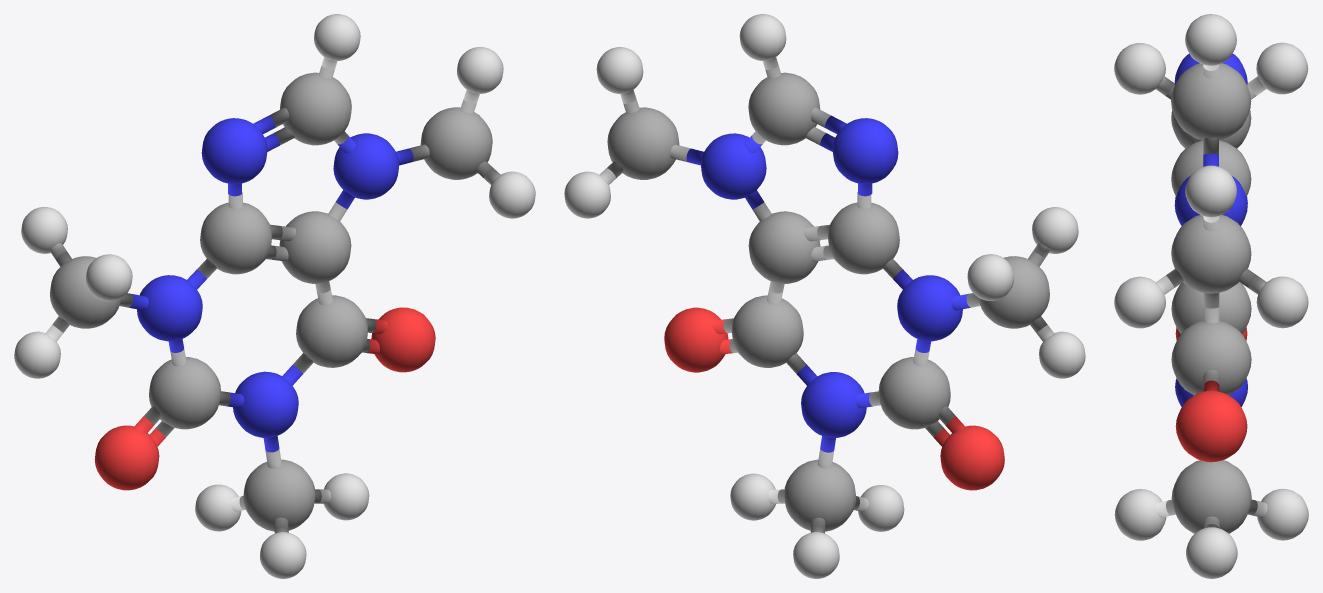
Rendered from cafeina.glb.
3 renders of one model, left to right at view 1: azimuth 30°, elevation 25°; view 2: azimuth 150°, elevation 25°; view 3: azimuth 270°, elevation 25°, orthographic. The views are drawn at different scales.
Visible parts, largest first — view 1: Shape_Sphere.004_62, Shape_Sphere.006_64, Shape_Sphere.009_67, Shape_Sphere.002_60, Shape_Sphere_58, Shape_Sphere.013_71, Shape_Sphere.005_63, Shape_Sphere.003_61, Shape_Sphere.008_66, Shape_Sphere.011_69, Shape_Sphere.001_59, Shape_Sphere.010_68 (+11 smaller); view 2: Shape_Sphere.004_62, Shape_Sphere.006_64, Shape_Sphere.009_67, Shape_Sphere.002_60, Shape_Sphere_58, Shape_Sphere.013_71, Shape_Sphere.005_63, Shape_Sphere.003_61, Shape_Sphere.011_69, Shape_Sphere.008_66, Shape_Sphere.010_68, Shape_Sphere.001_59 (+11 smaller); view 3: Shape_Sphere.002_60, Shape_Sphere_58, Shape_Sphere.013_71, Shape_Sphere.006_64, Shape_Sphere.007_65, Shape_Sphere.009_67, Shape_Sphere.014_72, Shape_Sphere.016_74, Shape_Sphere.021_79, Shape_Sphere.015_73, Shape_Sphere.017_75, Shape_Sphere.019_77 (+9 smaller).
Part boxes in pixels (bbox=[...]): Shape_Sphere.004_62: bbox=[200, 202, 272, 274]; Shape_Sphere.006_64: bbox=[296, 295, 368, 367]; Shape_Sphere.009_67: bbox=[149, 357, 220, 429]; Shape_Sphere.002_60: bbox=[280, 72, 351, 145]; Shape_Sphere_58: bbox=[420, 107, 492, 179]; Shape_Sphere.013_71: bbox=[243, 459, 315, 531]; Shape_Sphere.005_63: bbox=[279, 211, 351, 283]; Shape_Sphere.003_61: bbox=[201, 118, 267, 184]; Shape_Sphere.008_66: bbox=[233, 371, 298, 437]; Shape_Sphere.011_69: bbox=[137, 275, 202, 341]; Shape_Sphere.001_59: bbox=[333, 133, 399, 199]; Shape_Sphere.010_68: bbox=[94, 425, 159, 490]; Shape_Sphere.004_62: bbox=[827, 202, 899, 274]; Shape_Sphere.006_64: bbox=[731, 295, 803, 367]; Shape_Sphere.009_67: bbox=[878, 357, 950, 429]; Shape_Sphere.002_60: bbox=[748, 72, 820, 145]; Shape_Sphere_58: bbox=[607, 107, 679, 179]; Shape_Sphere.013_71: bbox=[784, 459, 856, 531]; Shape_Sphere.005_63: bbox=[748, 211, 820, 283]; Shape_Sphere.003_61: bbox=[832, 118, 898, 184]; Shape_Sphere.011_69: bbox=[897, 275, 962, 341]; Shape_Sphere.008_66: bbox=[801, 372, 866, 437]; Shape_Sphere.010_68: bbox=[940, 425, 1004, 490]; Shape_Sphere.001_59: bbox=[701, 133, 766, 199]; Shape_Sphere.002_60: bbox=[1171, 63, 1251, 140]; Shape_Sphere_58: bbox=[1171, 215, 1251, 292]; Shape_Sphere.013_71: bbox=[1171, 460, 1251, 533]; Shape_Sphere.006_64: bbox=[1171, 320, 1251, 395]; Shape_Sphere.007_65: bbox=[1175, 390, 1247, 462]; Shape_Sphere.009_67: bbox=[1171, 282, 1251, 333]; Shape_Sphere.014_72: bbox=[1185, 165, 1236, 217]; Shape_Sphere.016_74: bbox=[1114, 276, 1165, 328]; Shape_Sphere.021_79: bbox=[1186, 527, 1237, 578]; Shape_Sphere.015_73: bbox=[1256, 276, 1308, 328]; Shape_Sphere.017_75: bbox=[1185, 14, 1236, 65]; Shape_Sphere.019_77: bbox=[1256, 42, 1308, 94].
Bounding box in the file's own units: 7.82 × 7.98 × 2.48.
